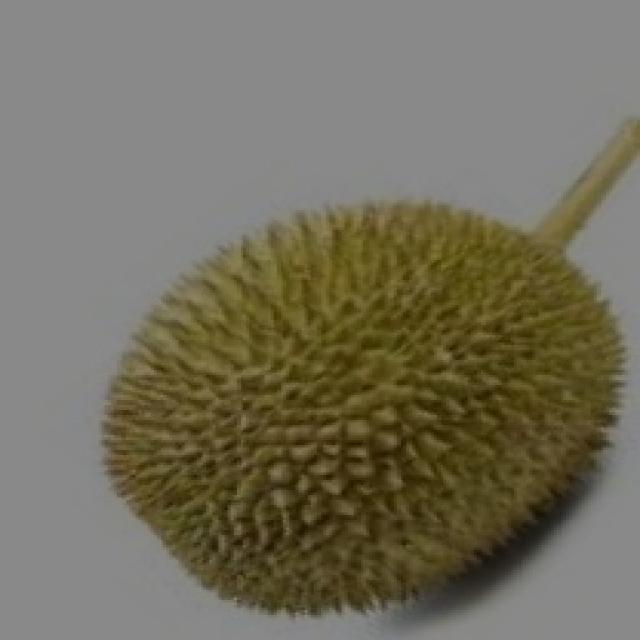fruit: (283, 205, 640, 635), (67, 257, 424, 640)
